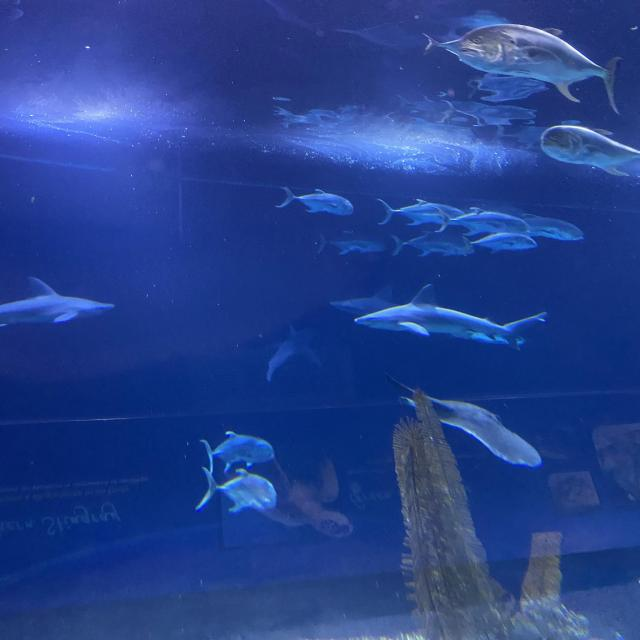fish: (456, 24, 623, 116), (539, 124, 640, 177), (196, 467, 276, 512), (202, 430, 274, 470), (379, 197, 467, 227), (434, 205, 528, 232), (500, 212, 584, 242), (276, 185, 354, 215), (420, 32, 510, 58), (393, 228, 472, 256), (318, 230, 385, 256), (464, 233, 540, 253)
shark: (354, 283, 549, 351), (0, 278, 117, 324), (330, 285, 446, 320), (266, 322, 318, 380)
stingray: (397, 397, 542, 468)
